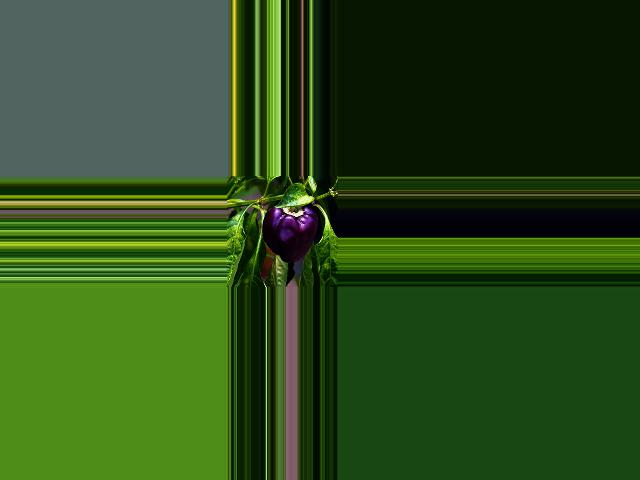bell_pepper: (260, 198, 317, 265)
